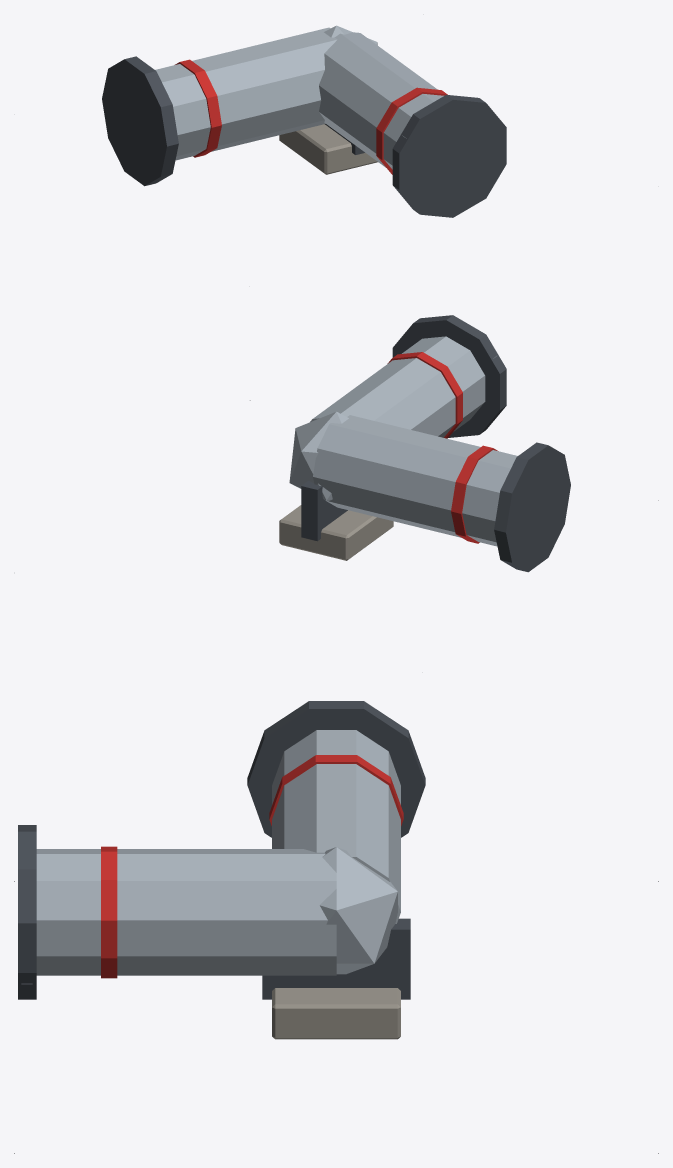
Rendered from tuyau_coude_t3.glb.
3 views of the same model, one above another, from view 1: azimuth 30°, elevation 25°; view 2: azimuth 150°, elevation 25°; view 3: azimuth 270°, elevation 25° (orthographic). The views are drawn at different scales.
Visible parts, largest first — view 1: pieces_inox.014, pieces_acier_sombre.050, pieces_beton.030, pieces_rive_t3.014; view 2: pieces_inox.014, pieces_acier_sombre.050, pieces_beton.030, pieces_rive_t3.014; view 3: pieces_inox.014, pieces_acier_sombre.050, pieces_beton.030, pieces_rive_t3.014.
Boxes of the visible parts, x1,y1,x2,y2 form: pieces_inox.014: [155, 25, 443, 169]; pieces_acier_sombre.050: [102, 56, 506, 217]; pieces_beton.030: [279, 124, 377, 174]; pieces_rive_t3.014: [175, 59, 447, 174]; pieces_inox.014: [289, 336, 517, 546]; pieces_acier_sombre.050: [301, 315, 570, 572]; pieces_beton.030: [279, 505, 393, 560]; pieces_rive_t3.014: [387, 352, 498, 543]; pieces_inox.014: [36, 730, 400, 975]; pieces_acier_sombre.050: [18, 701, 425, 999]; pieces_beton.030: [272, 988, 400, 1039]; pieces_rive_t3.014: [101, 755, 403, 978].
Bounding box in the file's own units: 1 × 0.318 × 1.
